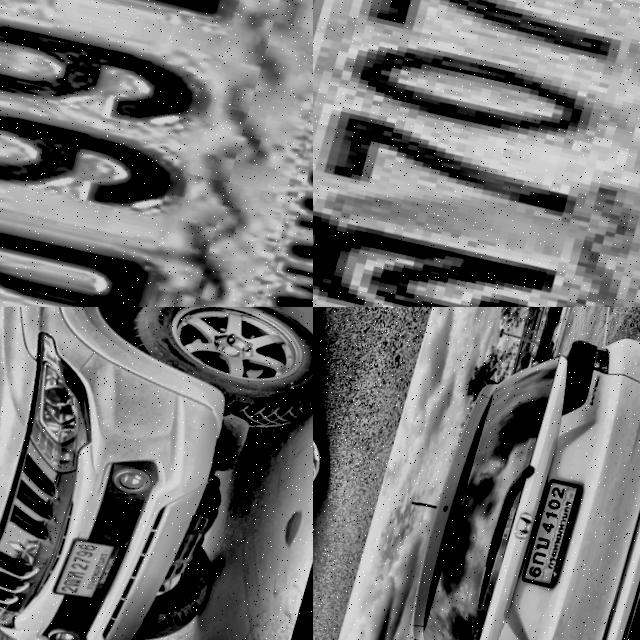license-plate: (313, 0, 640, 307), (0, 0, 313, 307), (518, 472, 592, 589), (55, 531, 129, 607)
